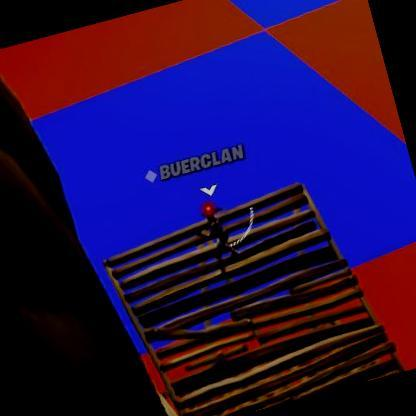person: (200, 208, 238, 266)
